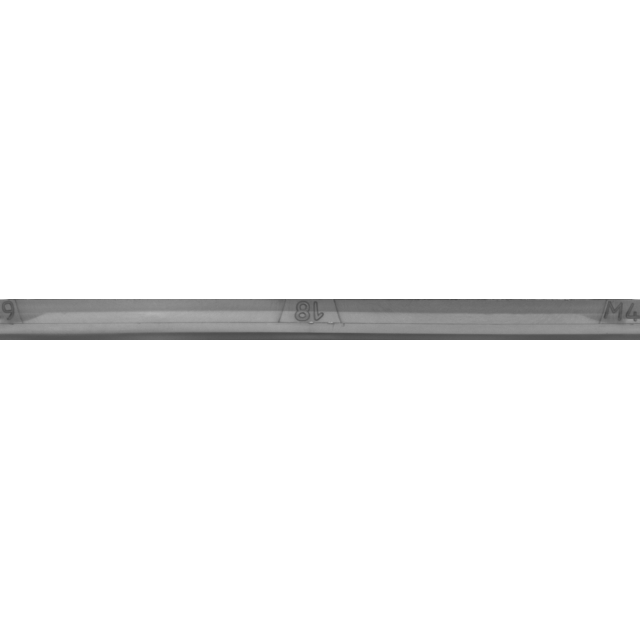mohao: (522, 270, 640, 370)
xuehao: (209, 270, 409, 370)
